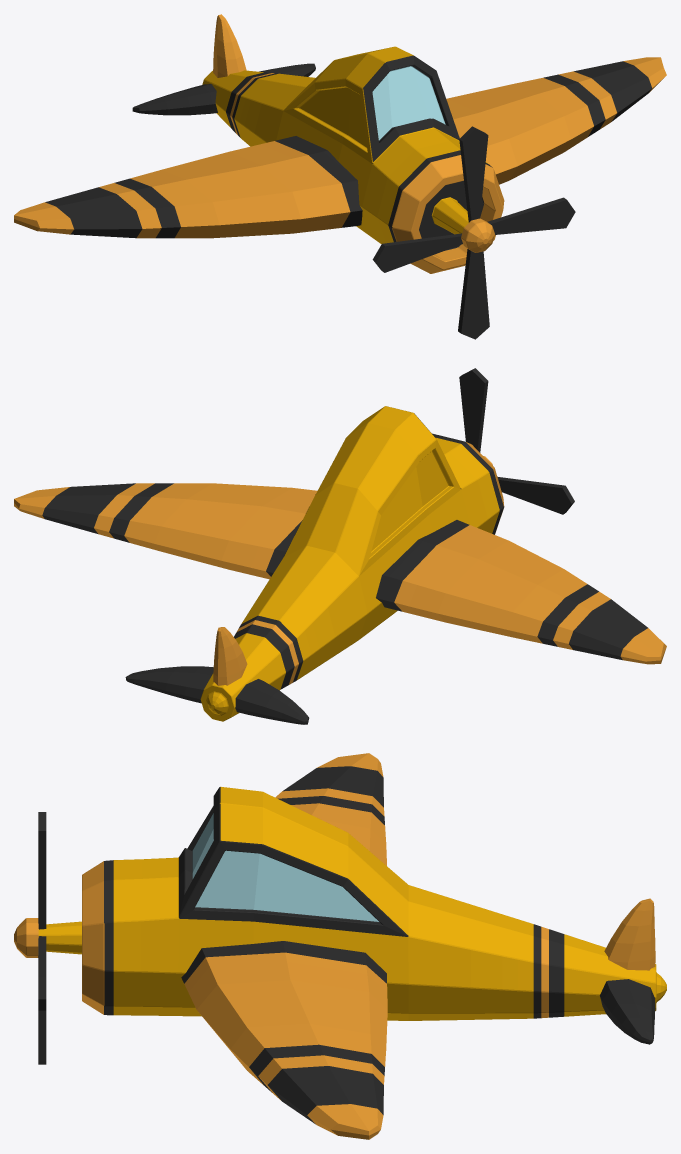
3 renders of one model, top to bottom at view 1: azimuth 30°, elevation 25°; view 2: azimuth 150°, elevation 25°; view 3: azimuth 270°, elevation 25°, orthographic. The views are drawn at different scales.
Visible parts, largest first — view 1: body, Weel; view 2: body, Weel; view 3: body, Weel.
Boxes of the visible parts, bbox=[...] form: body: bbox=[14, 14, 666, 273]; Weel: bbox=[372, 126, 575, 339]; body: bbox=[14, 406, 666, 724]; Weel: bbox=[459, 368, 574, 514]; body: bbox=[14, 753, 666, 1139]; Weel: bbox=[38, 812, 46, 1064].
Size of the model in its own units: 1309 by 436 by 956.
